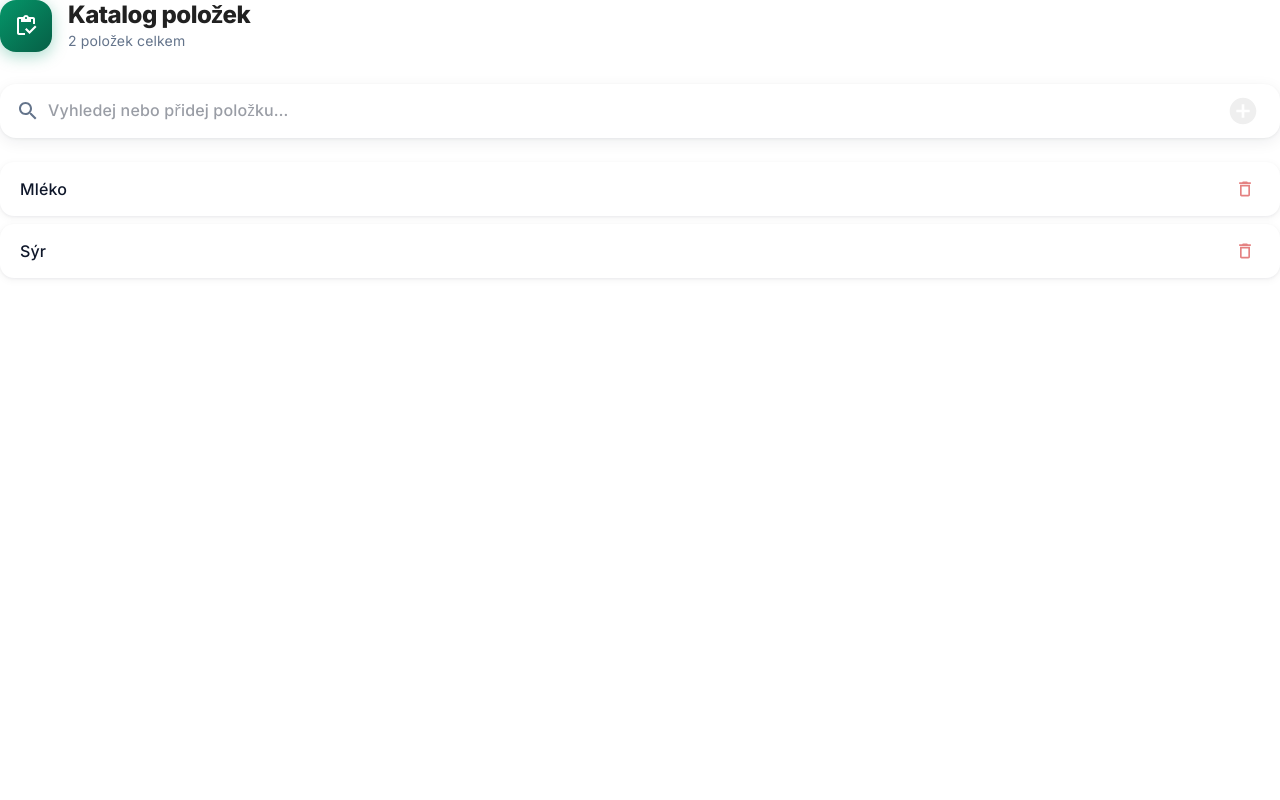
Test: ItemsList – mazání položky › should show confirm dialog on delete click and shrink list by 1 after confirm
Check: the text "mléko" is shown, box x1=20 y1=177 x2=67 y2=201
Check: the text "sýr" is shown, box x1=20 y1=239 x2=46 y2=263
Note: Klik na první (u „mléko“) – useDelete otevře dialog
Click the button named "smazat" in the row of "mléko" at (1245, 189), box x1=1230 y1=174 x2=1260 y2=204
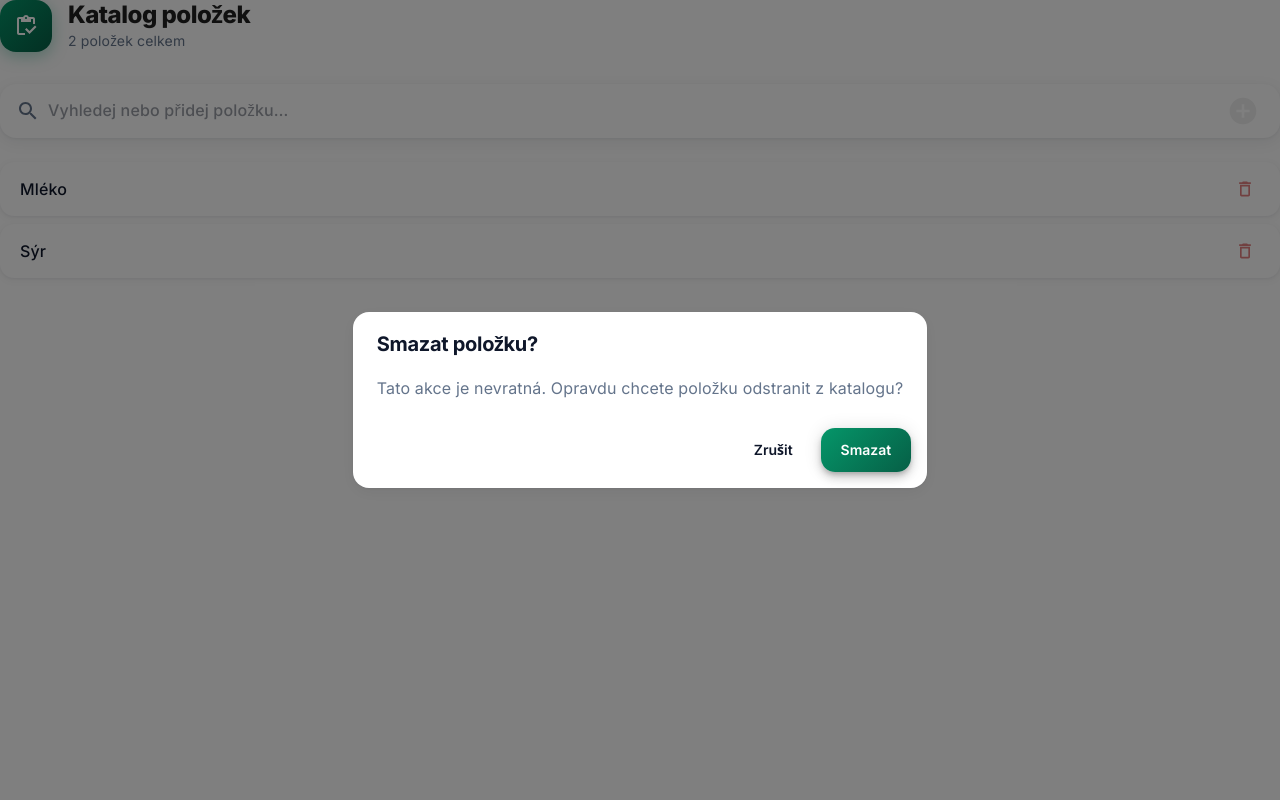
Check: the dialog is shown, box x1=353 y1=312 x2=927 y2=488
Check: the heading "Smazat položku?" is shown, box x1=377 y1=332 x2=538 y2=356
Click the button "Smazat" at (866, 450), box x1=821 y1=428 x2=911 y2=472
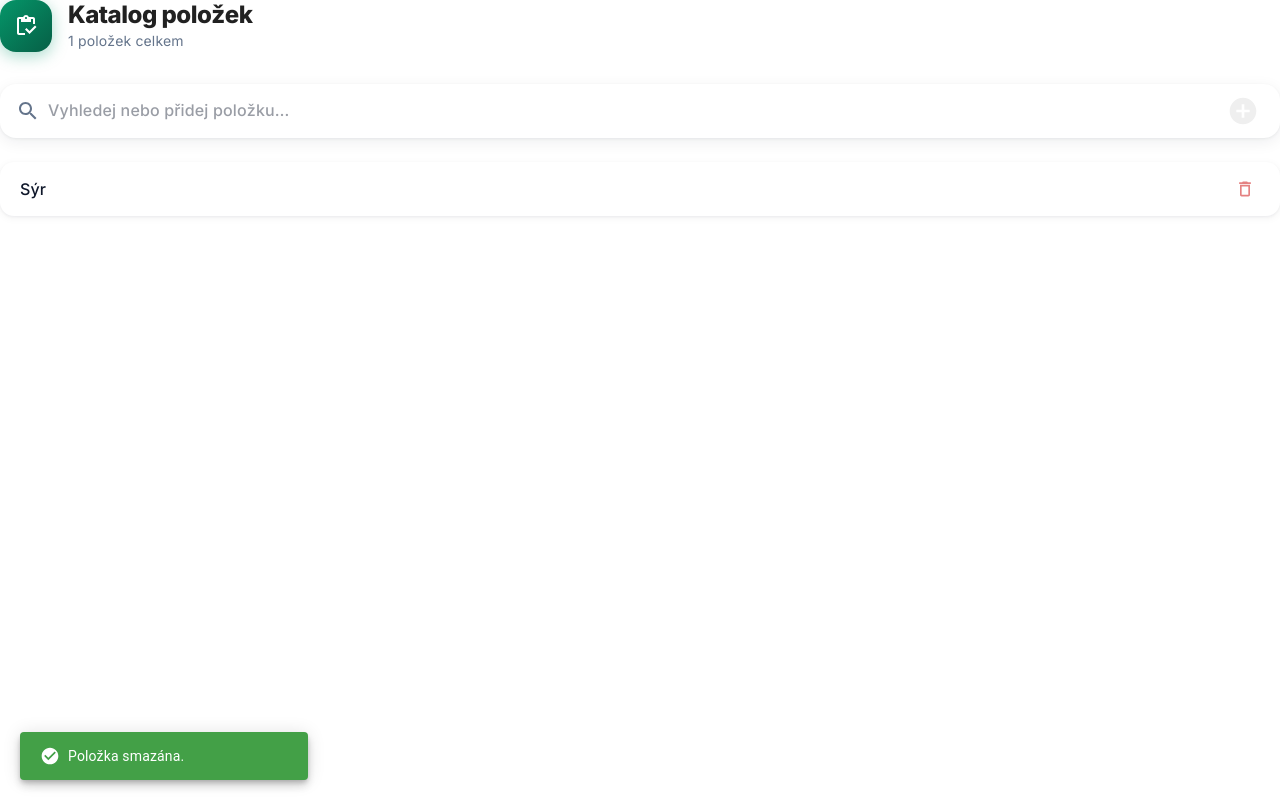
Check: the dialog is gone
Check: the number of buttons named "smazat" is 1, box x1=1230 y1=174 x2=1260 y2=204
Check: the text "mléko" is gone
